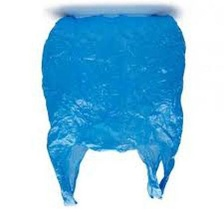plastic_bag: (34, 5, 194, 212)
